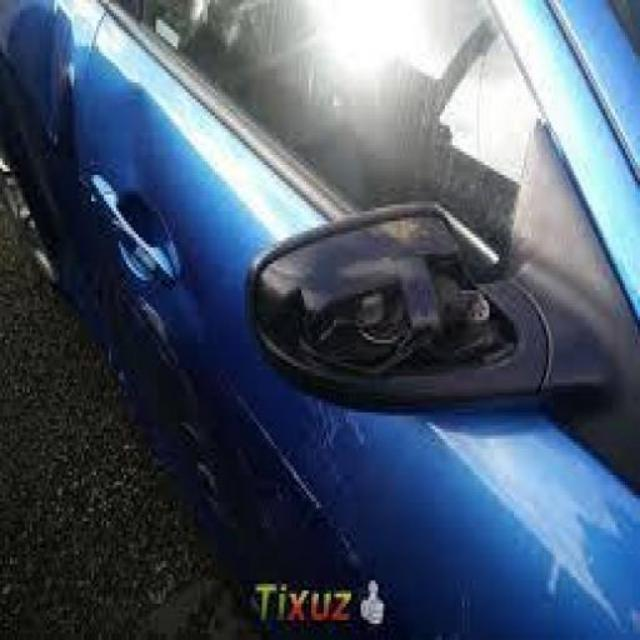dent: (84, 84, 168, 192)
rub: (24, 0, 82, 154)
